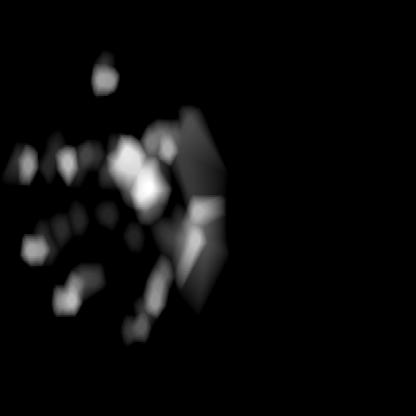fingers: (90, 62, 119, 96)
palm: (11, 133, 104, 313), (51, 261, 170, 339)
thumb: (110, 108, 215, 264)
